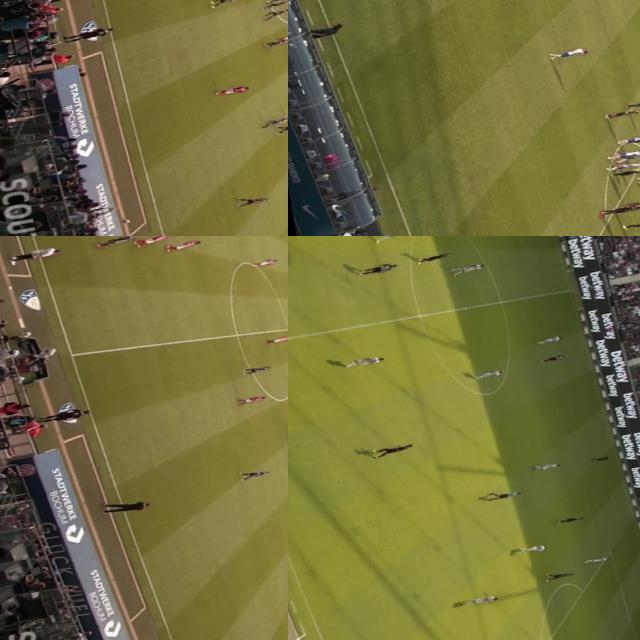player: (361, 442, 416, 462), (412, 246, 456, 267), (445, 257, 489, 278), (341, 352, 382, 370), (358, 258, 399, 275), (550, 46, 591, 62), (95, 236, 141, 250), (459, 592, 498, 608), (232, 192, 270, 208), (134, 236, 176, 250), (162, 238, 204, 252), (468, 366, 504, 382), (602, 204, 637, 219), (528, 334, 564, 348), (365, 236, 419, 245), (212, 84, 249, 97), (530, 459, 561, 474), (250, 256, 281, 270), (604, 108, 640, 120), (540, 570, 574, 582), (238, 468, 269, 481), (582, 453, 612, 466), (540, 352, 567, 366), (259, 8, 288, 21), (515, 542, 548, 553), (258, 117, 288, 129), (611, 160, 640, 172), (619, 217, 640, 233), (612, 148, 640, 160), (242, 364, 272, 375), (205, 0, 241, 9), (613, 201, 640, 213), (581, 554, 608, 566), (237, 393, 266, 404), (556, 512, 582, 524), (260, 38, 288, 49), (616, 166, 640, 178), (267, 332, 288, 345), (622, 134, 640, 148), (621, 146, 640, 159), (262, 0, 288, 9), (619, 134, 640, 145), (271, 122, 288, 135), (628, 96, 640, 111), (632, 169, 640, 186), (273, 33, 288, 42)
